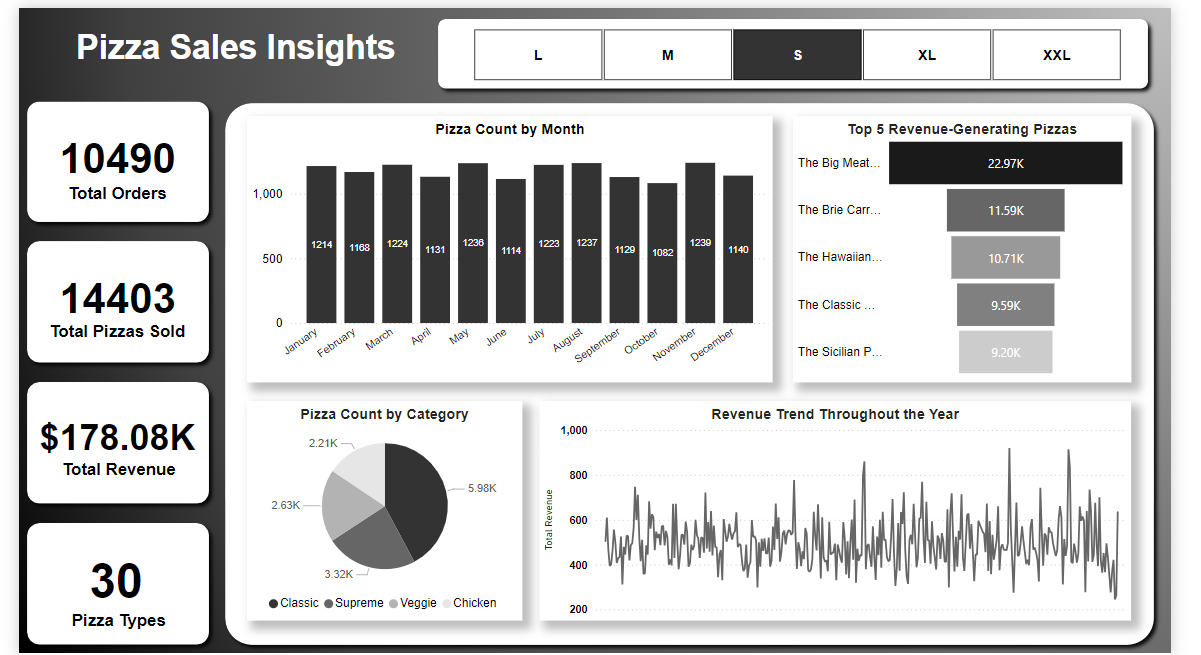

This screenshot's page, from the dashboard's own definition file:
{"tool":"powerbi","page":{"name":"Page 1","canvas":[1280,720],"ordinal":0},"visuals":[{"type":"shape","box":[456.7,3.3,806.7,95],"z":0},{"type":"shape","box":[220,96,1050,620],"z":1000},{"type":"shape","box":[0,562.9,220,152.9],"z":2000},{"type":"shape","box":[0,406.5,220,152.9],"z":3000},{"type":"shape","box":[0,250.2,220,152.9],"z":4000},{"type":"shape","box":[0,95,220,151.7],"z":5000},{"type":"card","title":"Total Orders","fields":{"Values":["Count(pizzasales.order_id)"]},"box":[16.7,120,185,101.7],"z":6000},{"type":"card","title":"Total Pizzas Sold","fields":{"Values":["Sum(pizzasales.quantity)"]},"box":[16.7,263.3,185,126.7],"z":7000},{"type":"card","fields":{"Values":["Sum(pizzasales.total_price)"]},"box":[16.7,425,185,115],"z":8000},{"type":"textbox","box":[20,16.7,441.7,65],"z":9000},{"type":"columnChart","title":"Pizza Count by Month","fields":{"Category":["pizzasales.order_date.Variation.Date Hierarchy.Month"],"Y":["Count(pizzasales.pizza_id)"]},"box":[252.9,120,584.3,295.7],"z":10000},{"type":"pieChart","title":"Pizza Count by Category","fields":{"Category":["pizzasales.pizza_category"],"Y":["Count(pizzasales.pizza_id)"]},"box":[252.9,437.1,305.7,244.3],"z":11000},{"type":"card","fields":{"Values":["Count(pizzasales.pizza_name)"]},"box":[16.7,583.3,181.7,113.3],"z":12000},{"type":"slicer","fields":{"Values":["pizzasales.pizza_size"]},"box":[480,16.7,768.3,70],"z":13000},{"type":"lineChart","title":"Revenue Trend Throughout the Year","fields":{"Y":["Sum(pizzasales.total_price)"],"Category":["pizzasales.order_date.Variation.Date Hierarchy.Year","pizzasales.order_date.Variation.Date Hierarchy.Quarter","pizzasales.order_date.Variation.Date Hierarchy.Month","pizzasales.order_date.Variation.Date Hierarchy.Day"]},"box":[578.6,437.1,657.1,244.3],"z":14000},{"type":"funnel","title":"Top 5 Revenue-Generating Pizzas","fields":{"Category":["pizzasales.pizza_name"],"Y":["Sum(pizzasales.total_price)"]},"box":[860,120,375.7,295.7],"z":15000},{"type":"textbox","box":[15,190,188.3,32],"z":16000},{"type":"textbox","box":[15,343.3,188.3,32],"z":17000},{"type":"textbox","box":[16.7,496.7,188.3,32],"z":18000},{"type":"textbox","box":[16.7,665,188.3,32],"z":19000}]}

Visuals, with their boxes on the page's 1280x720 design canvas (x1, y1, x2, y2). These are canvas units, not pixel positions in the 1201x655 screenshot, which may show the page scaled, cropped or inside an application window:
shape: (457,3,1263,98)
shape: (220,96,1270,716)
shape: (0,563,220,716)
shape: (0,406,220,559)
shape: (0,250,220,403)
shape: (0,95,220,247)
"Total Orders" card: (17,120,202,222)
"Total Pizzas Sold" card: (17,263,202,390)
card - Sum(pizzasales.total_price): (17,425,202,540)
textbox: (20,17,462,82)
"Pizza Count by Month" columnChart: (253,120,837,416)
"Pizza Count by Category" pieChart: (253,437,559,681)
card - Count(pizzasales.pizza_name): (17,583,198,697)
slicer - pizzasales.pizza_size: (480,17,1248,87)
"Revenue Trend Throughout the Year" lineChart: (579,437,1236,681)
"Top 5 Revenue-Generating Pizzas" funnel: (860,120,1236,416)
textbox: (15,190,203,222)
textbox: (15,343,203,375)
textbox: (17,497,205,529)
textbox: (17,665,205,697)
